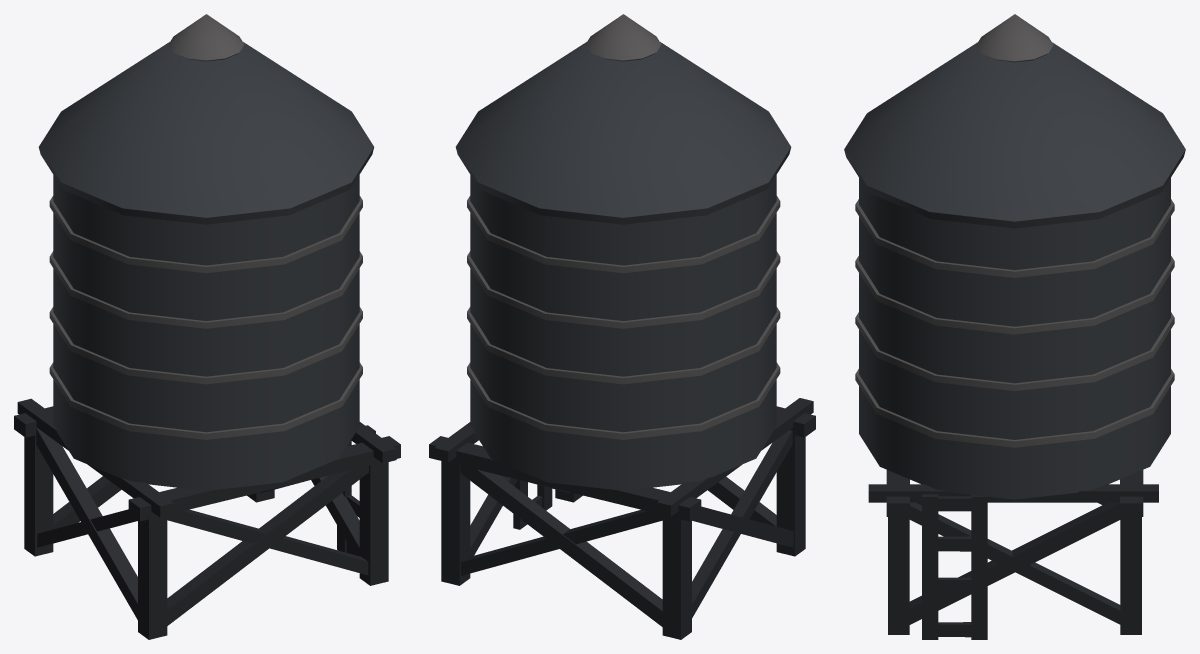
File: WaterCistern_1.fbx
3 renders of one model, left to right at view 1: azimuth 30°, elevation 25°; view 2: azimuth 150°, elevation 25°; view 3: azimuth 270°, elevation 25°, orthographic.
Parts seen in each view (by area): view 1: WaterCistern_1; view 2: WaterCistern_1; view 3: WaterCistern_1.
Boxes of the visible parts, x1,y1,x2,y2 form: WaterCistern_1: (14, 14, 400, 639); WaterCistern_1: (429, 14, 815, 639); WaterCistern_1: (844, 14, 1185, 639).
Size of the model in its own units: 254 by 463 by 254.
